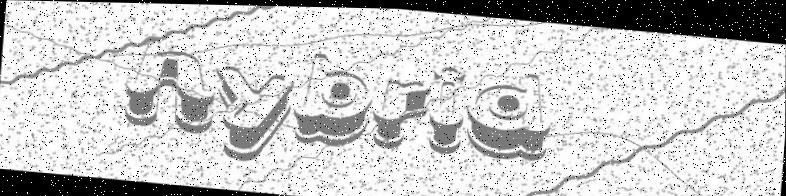b: (290, 39, 378, 160)
d: (458, 67, 559, 169)
i: (426, 52, 469, 161)
n: (120, 38, 219, 133)
r: (369, 70, 431, 162)
y: (207, 60, 298, 166)
